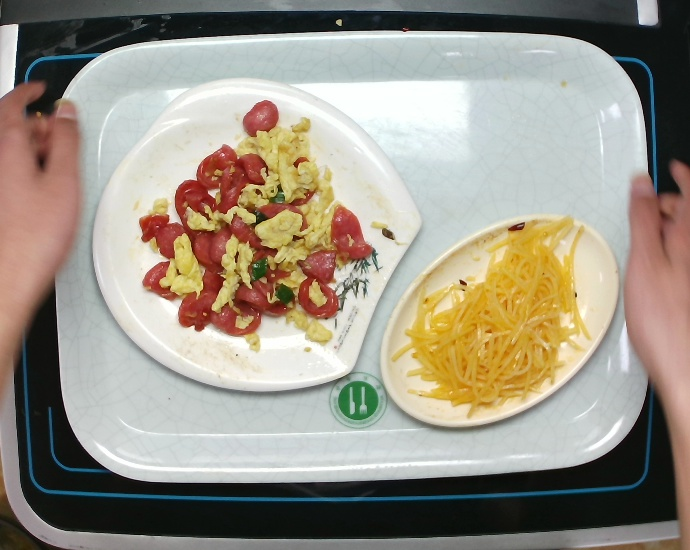JYsf-Mian_Pan: (88, 74, 420, 392)
JYsf-Tuo_Yuan_Wan: (380, 209, 620, 431)
